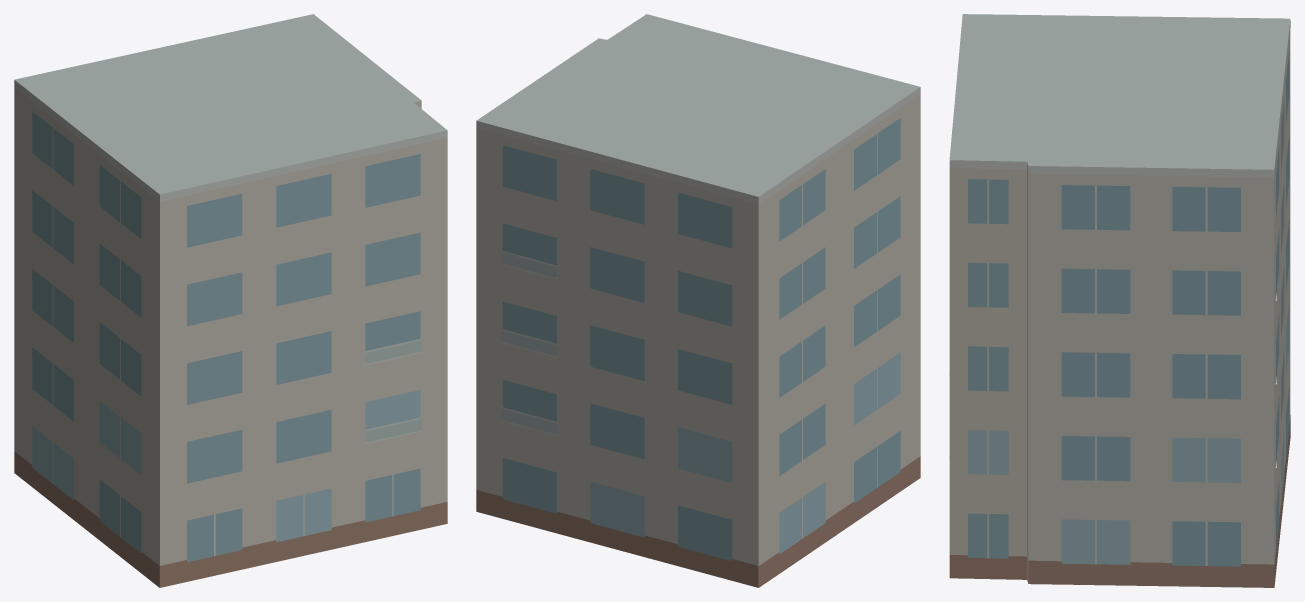
The model's file is survey-upis-32777709.glb.
3 renders of one model, left to right at view 1: azimuth 30°, elevation 25°; view 2: azimuth 150°, elevation 25°; view 3: azimuth 270°, elevation 25°, orthographic. The views are drawn at different scales.
Visible parts, largest first — view 1: survey-upis-32777709.tmp; view 2: survey-upis-32777709.tmp; view 3: survey-upis-32777709.tmp.
Boxes of the visible parts, x1,y1,x2,y2 form: survey-upis-32777709.tmp: [14, 14, 447, 587]; survey-upis-32777709.tmp: [476, 14, 920, 587]; survey-upis-32777709.tmp: [949, 14, 1290, 587].
Size of the model in its own units: 10.48 by 13.1 by 9.69.
